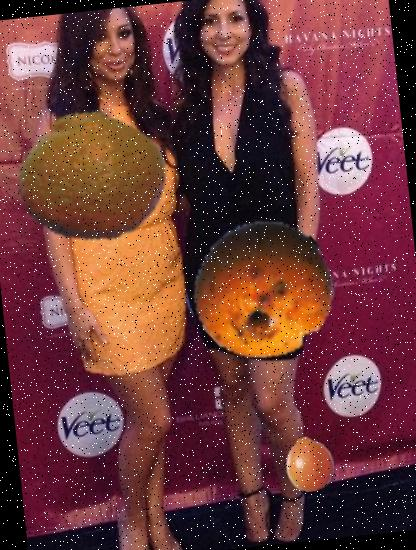Granadilla: (186, 212, 342, 368)
Mandarine: (12, 97, 172, 256)
Tangelo: (280, 434, 341, 496)
